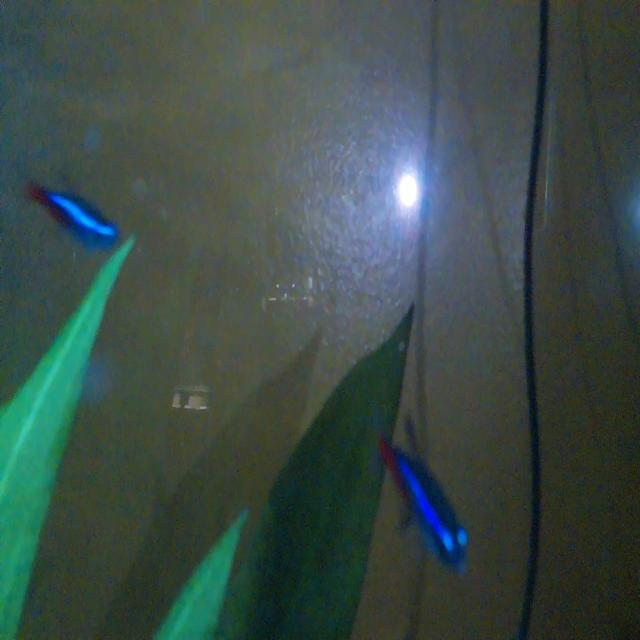fish: (365, 411, 478, 569), (17, 166, 123, 253)
